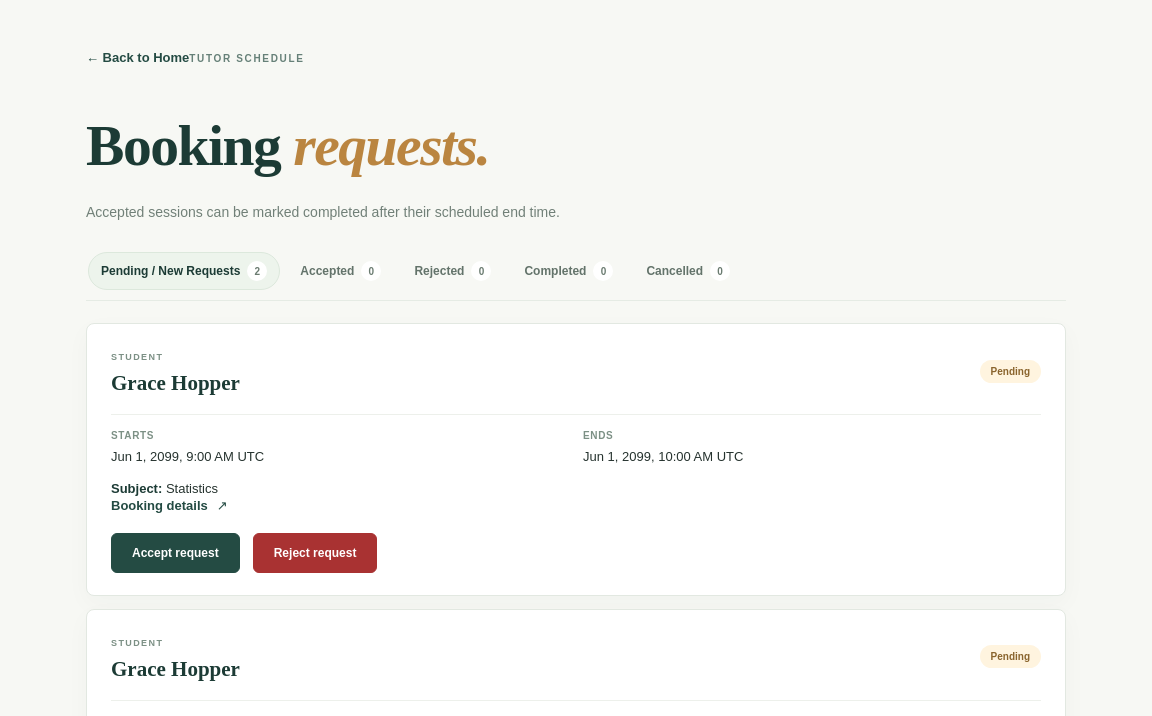
Test case: tutor booking requests page › accepts and rejects only pending requests and reflects the returned statuses
Expected: the number of headings "Grace Hopper" is 2, [111,371,240,396]; [111,657,240,682]
Click the button "Accept request" at (175, 553), box [111,533,240,573]
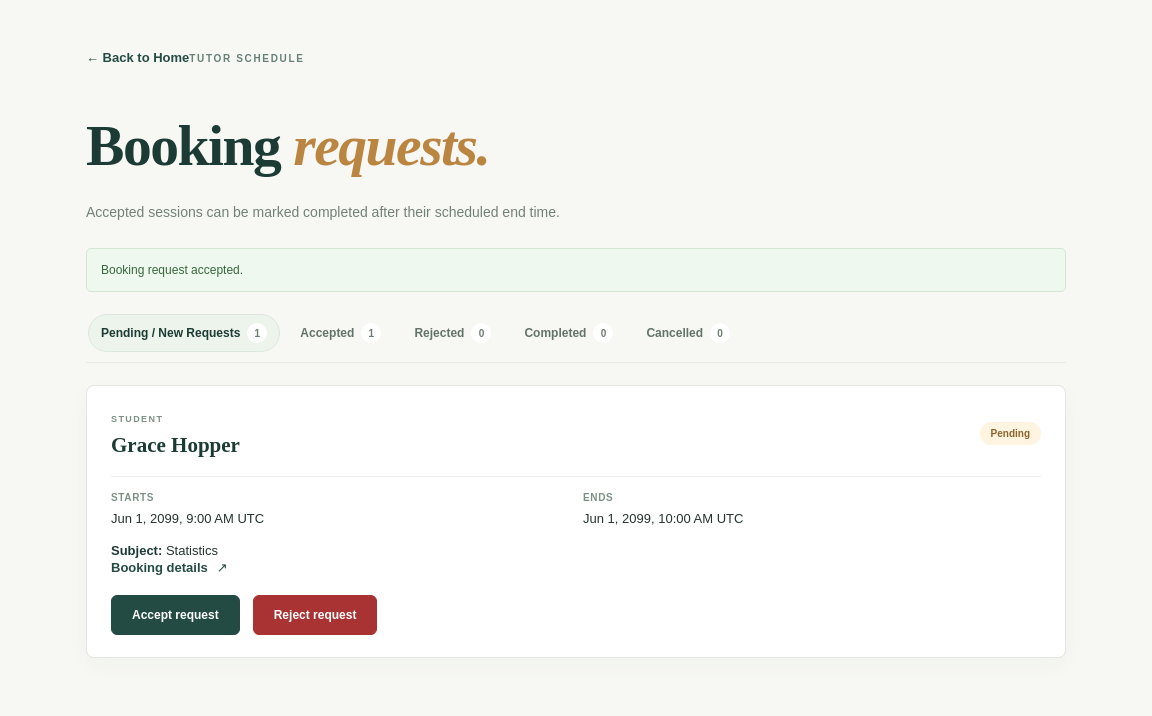
Expected: the text "Booking request accepted." is shown, [86,248,1066,292]
Click the button "Reject request" at (315, 615), box [253,595,377,635]
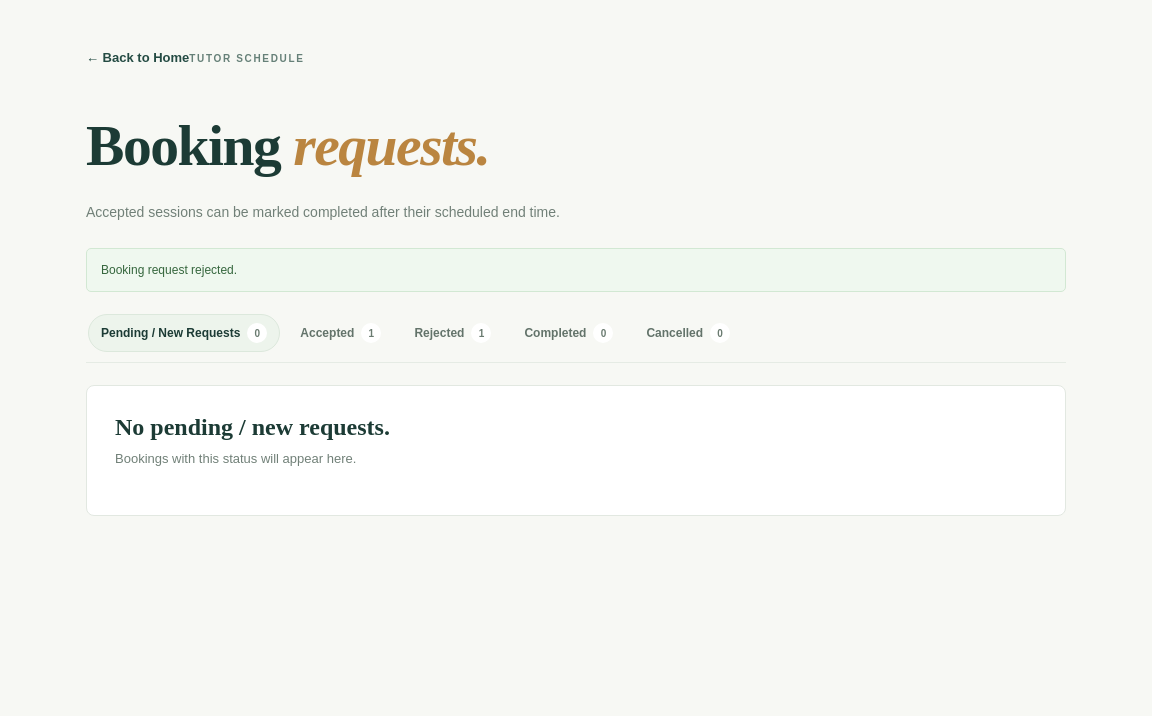
Expected: the text "Booking request rejected." is shown, [86,248,1066,292]
Click the tab "Accepted 1" at (341, 333), box [287,314,394,352]
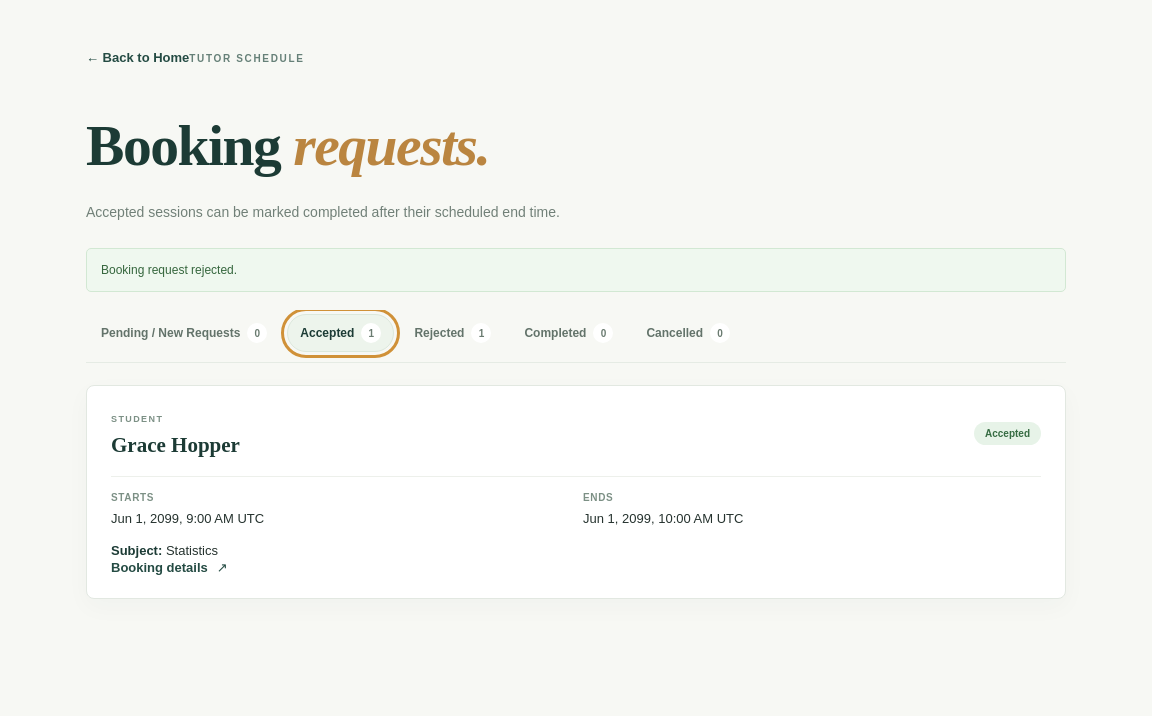
Expected: the text "Accepted" is shown, [974,422,1041,445]
Click the tab "Rejected 1" at (453, 333), box [401,314,504,352]
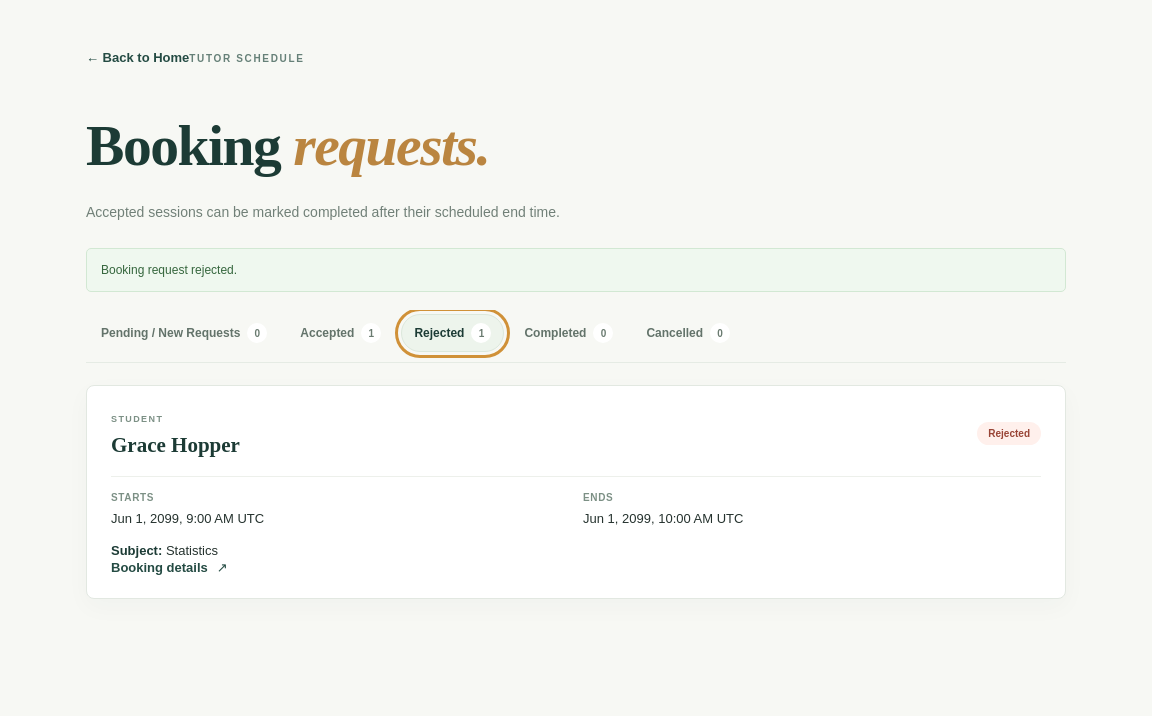
Expected: the text "Rejected" is shown, [977,422,1041,445]
